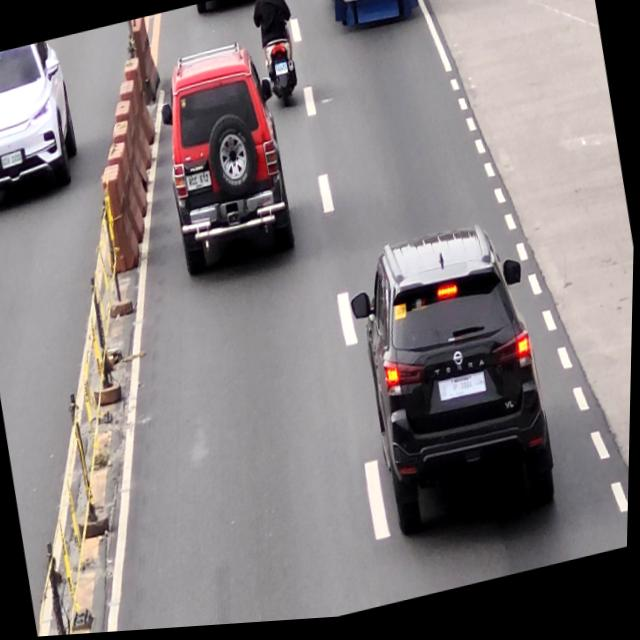Car: (341, 220, 567, 551), (150, 37, 302, 286)
Jeep: (322, 0, 421, 43)
License-Plate: (438, 374, 490, 409), (184, 171, 214, 196), (273, 63, 289, 79)
Motorcycle: (258, 10, 307, 121)
